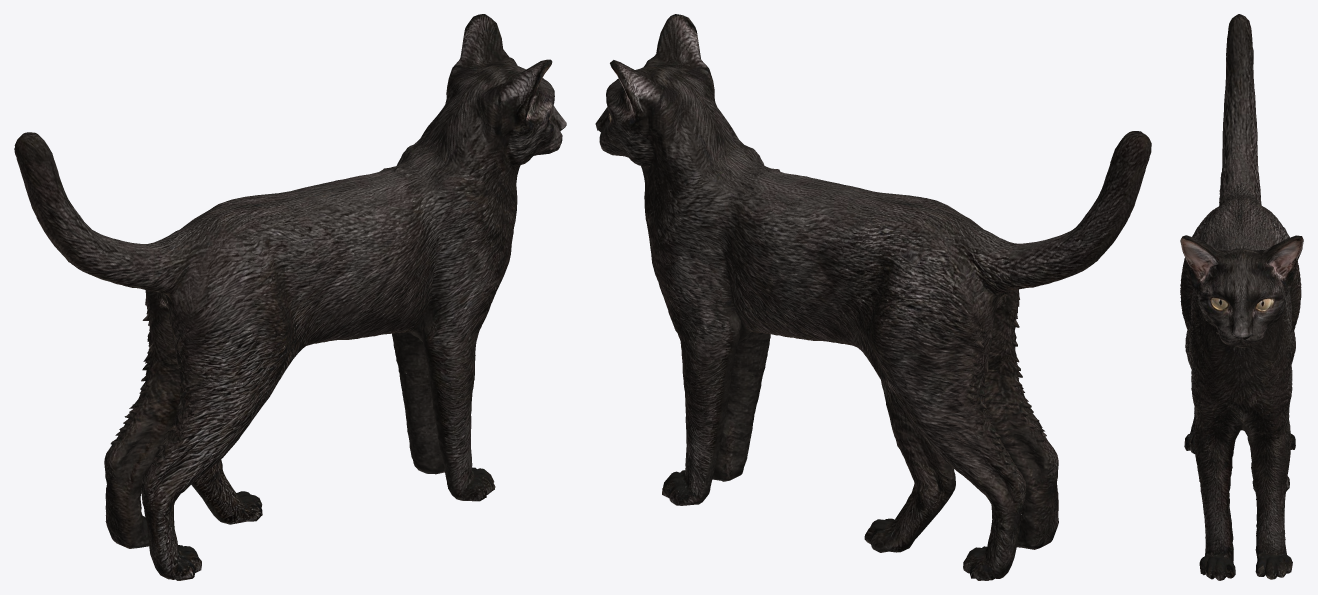
Rendered from HODGECAT.glb.
3 renders of one model, left to right at view 1: azimuth 30°, elevation 25°; view 2: azimuth 150°, elevation 25°; view 3: azimuth 270°, elevation 25°, orthographic. The views are drawn at different scales.
Parts seen in each view (by area): view 1: tripo_node_369b920a-f670-4804-84b9-331fc26aa948; view 2: tripo_node_369b920a-f670-4804-84b9-331fc26aa948; view 3: tripo_node_369b920a-f670-4804-84b9-331fc26aa948.
Part boxes in pixels (box(x1,y1,x2,y2)): tripo_node_369b920a-f670-4804-84b9-331fc26aa948: box(14, 14, 566, 580); tripo_node_369b920a-f670-4804-84b9-331fc26aa948: box(595, 14, 1151, 580); tripo_node_369b920a-f670-4804-84b9-331fc26aa948: box(1180, 14, 1303, 580).
Bounding box in the file's own units: 1.25 × 0.9988 × 0.2913.
1 material, 1 textured.
